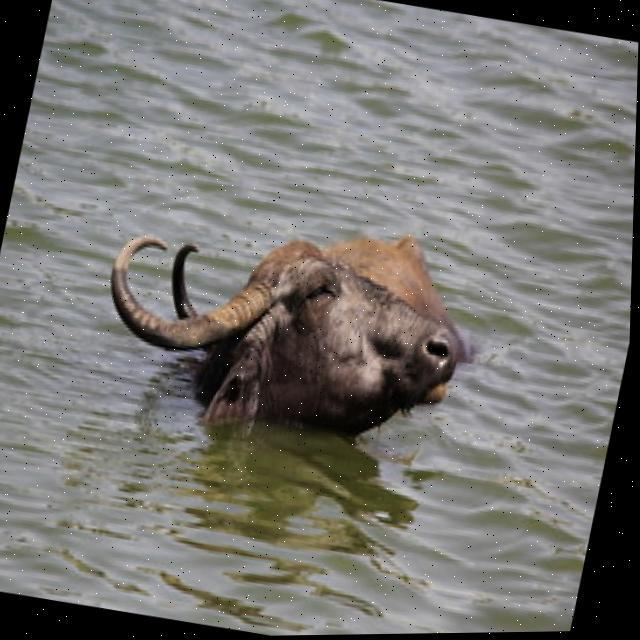Buffalo: (78, 177, 499, 475)
